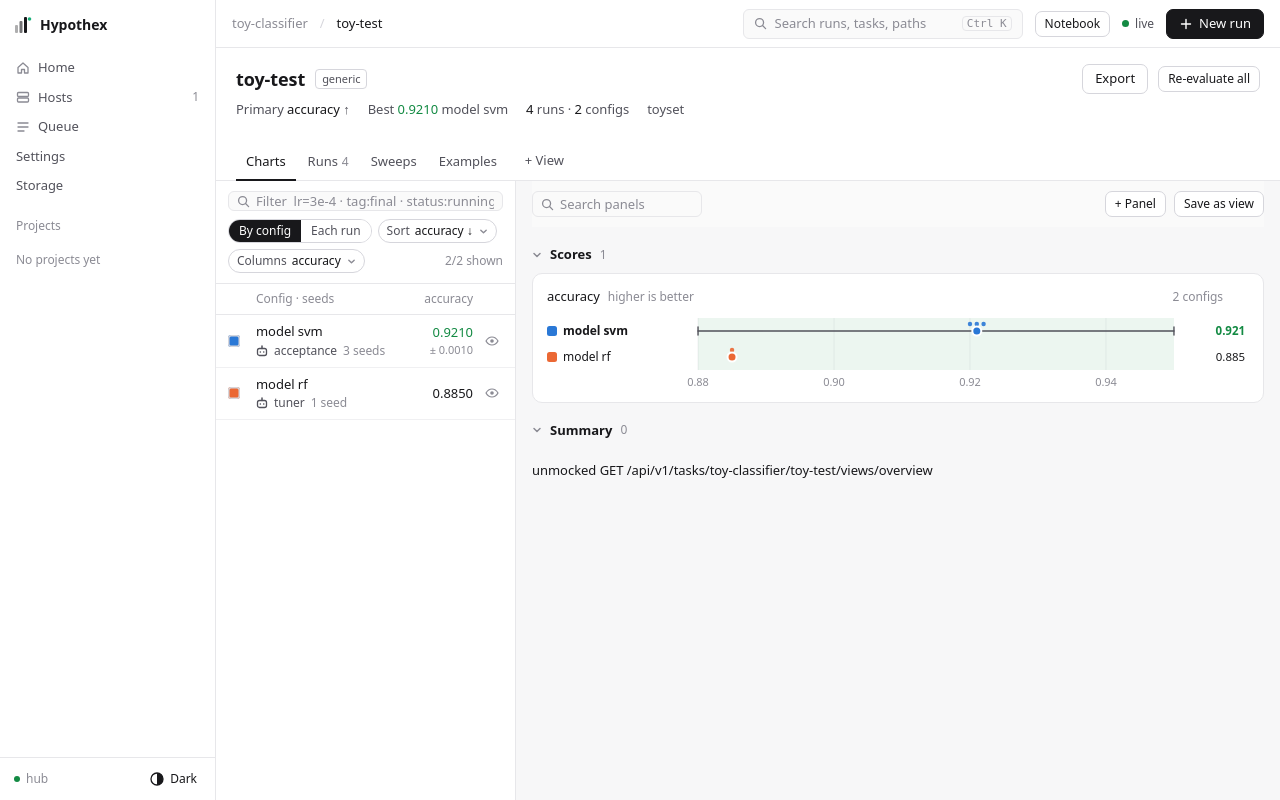
Test: New run on a task route › an empty leaderboard opens an empty draft and reads no template
What coordinates should you click on to do the following:
click the button "New run"
I would click on:
 (1215, 24)
Its box is [1166,8,1264,38].
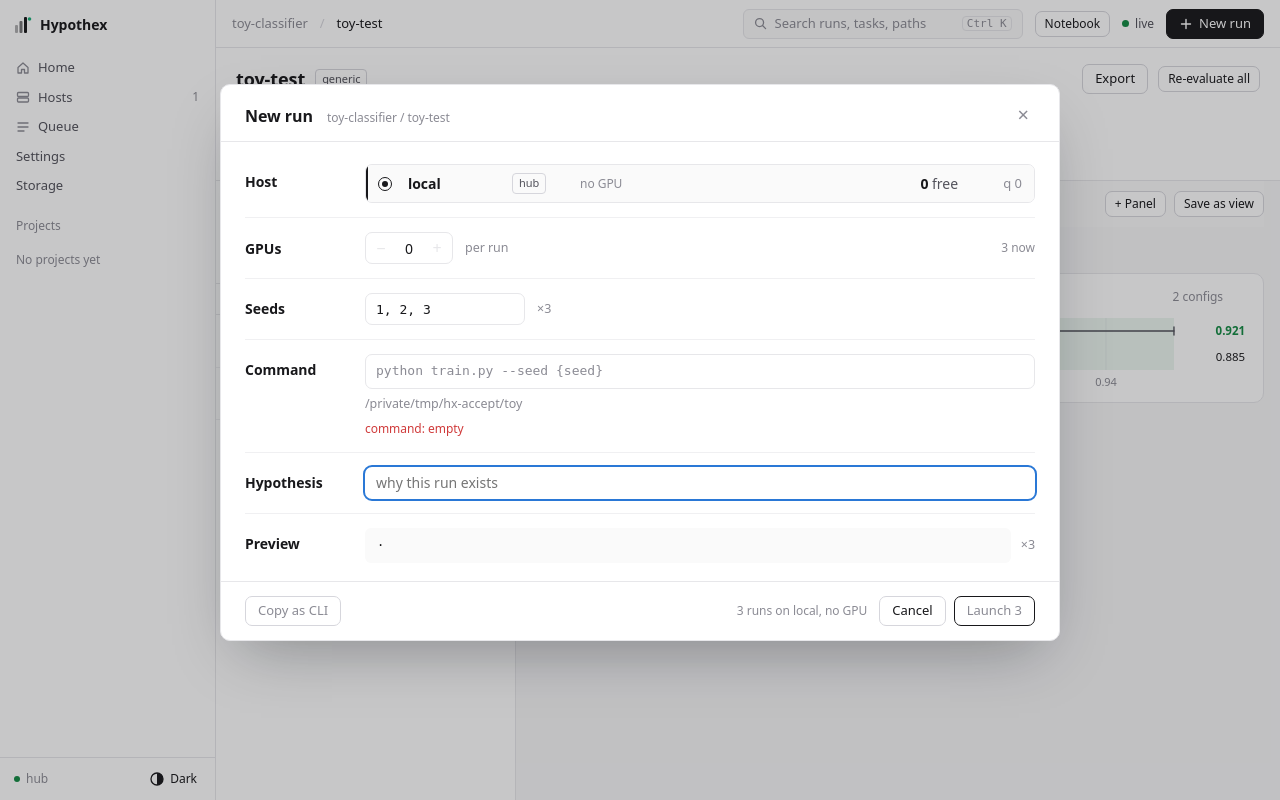
Expected: the radio button labelled "local" is checked, [378,176,392,190]
Expected: the text box labelled "Command" is empty, [366,355,1034,388]
